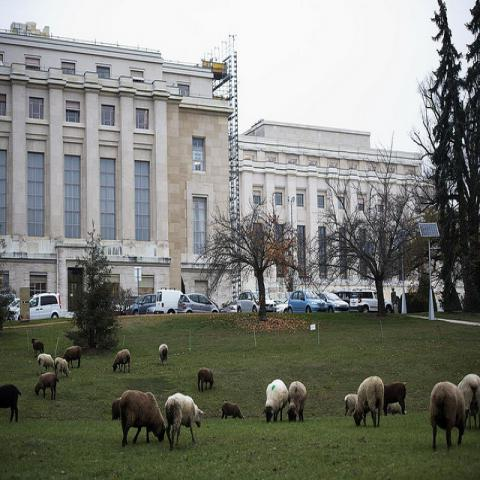car: (110, 288, 350, 314), (350, 289, 394, 315), (287, 289, 329, 314), (29, 291, 61, 321), (178, 294, 219, 313), (320, 293, 349, 313), (236, 290, 260, 314), (130, 294, 156, 316), (4, 298, 20, 320), (265, 291, 277, 311), (276, 298, 289, 314), (146, 306, 161, 314), (226, 304, 238, 313)
truck: (155, 288, 184, 314)
